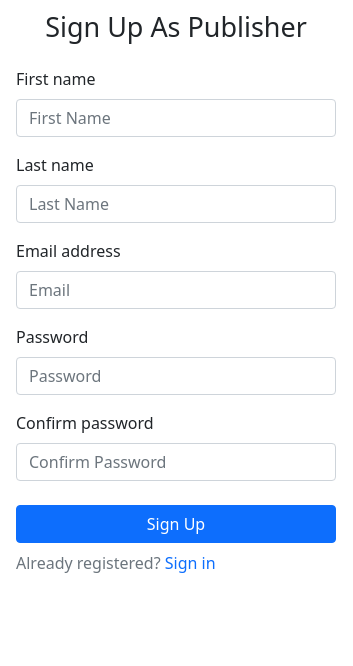
Scenario: Testing SignUp component › Testing the component when everything is correct it should shows "Account successfully created"
The image size is (353, 666).
Type "test" into the field with placeholder "First name" at (176, 118), box [16,99,336,137]
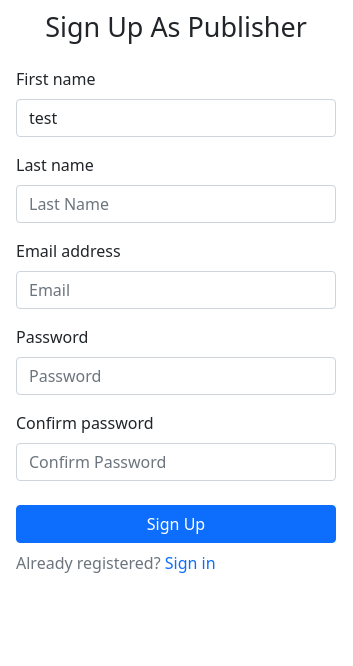
Type "test" into the field with placeholder "Last name" at (176, 204), box [16,185,336,223]
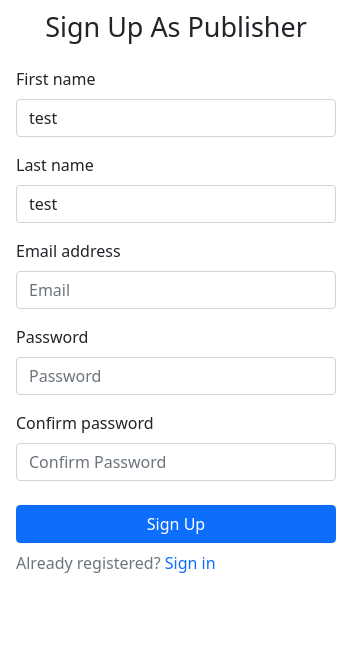
Type "testtest@email.com" into the field with placeholder "Email" at (176, 290), box [16,271,336,309]
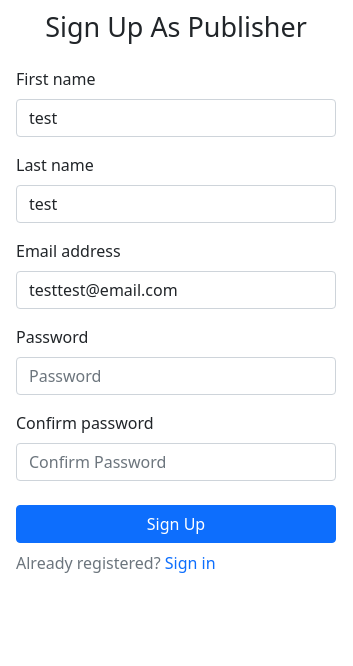
Type "Q1!wasdf" into the password field with placeholder "Password" at (176, 376), box [16,357,336,395]
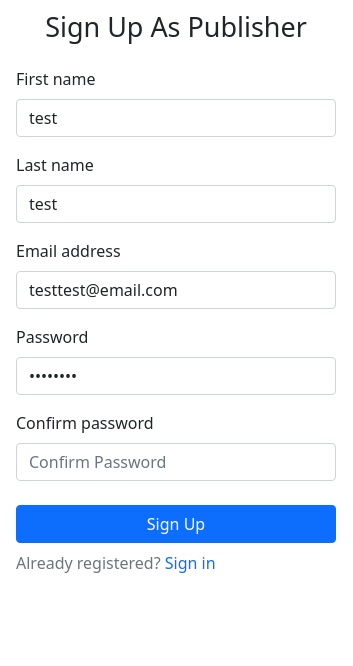
Type "Q1!wasdf" into the password field with placeholder "Confirm password" at (176, 462), box [16,443,336,481]
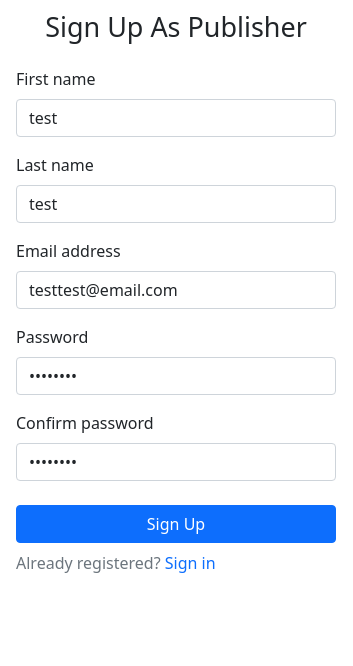
Click the button "Sign Up" at (176, 524), box [16,505,336,543]
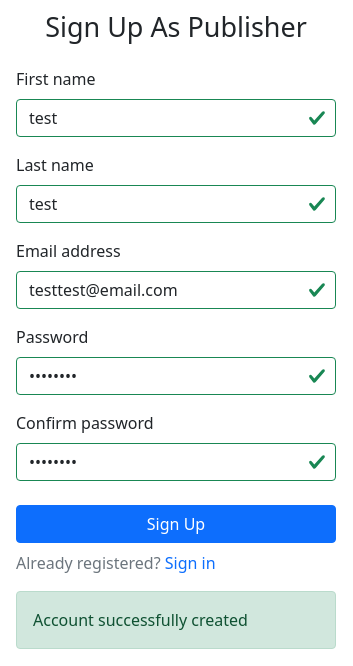
Expected: the text "Account successfully created" is shown, [16,591,336,649]
